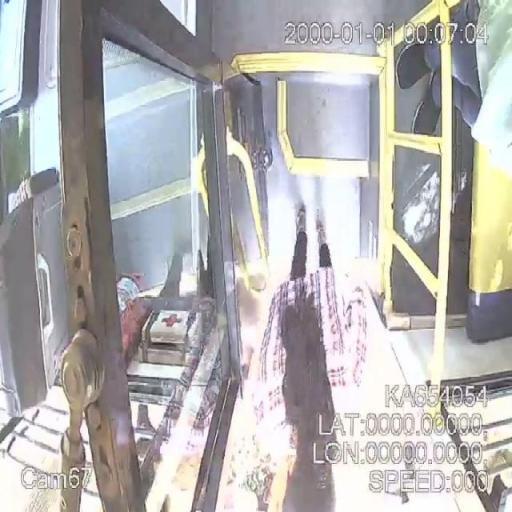persona: (257, 206, 367, 511), (394, 7, 508, 155)
